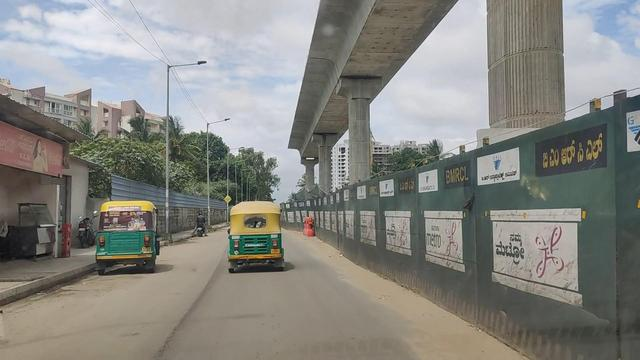LMV: (86, 190, 165, 279), (223, 198, 290, 280)
